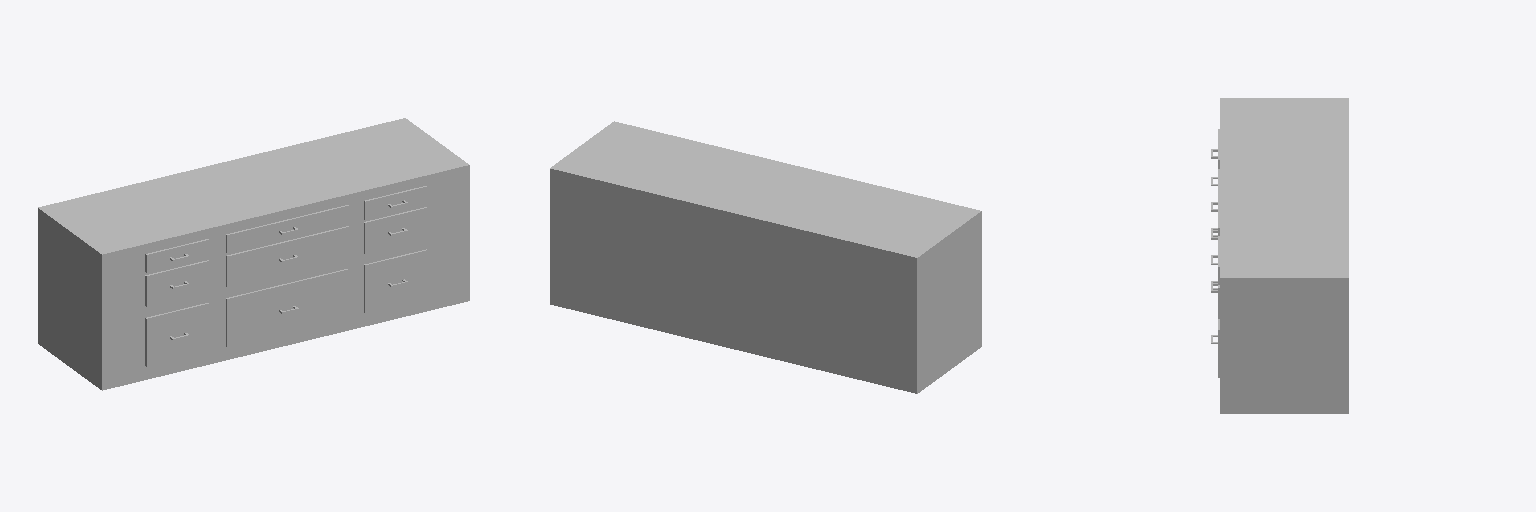
The model's file is kitchenTop.obj.
3 views of the same model, side by side, from view 1: azimuth 30°, elevation 25°; view 2: azimuth 150°, elevation 25°; view 3: azimuth 270°, elevation 25° (orthographic).
Visible parts, largest first — view 1: Kitchen_Base_grp Kitchen_Base_geo, Kitchen_Base_grp Bottom_Middle_Drawer_grp Bottom_Middle_Drawer_g, Kitchen_Base_grp Middle_Middle_Drawer_grp Middle_Middle_Drawer_g, Kitchen_Base_grp Bottom_Left_Drawer_grp Bottom_Left_Drawer_geo, Kitchen_Base_grp Bottom_Right_Drawer_grp Bottom_Right_Drawer_geo, Kitchen_Base_grp Top_Middle_Drawer_grp Top_Middle_Drawer_geo, Kitchen_Base_grp Middle_Left_Drawer_grp Middle_Left_Drawer_geo, Kitchen_Base_grp Middle_Right_Drawer_grp Middle_Right_Drawer_geo, Top_Right_Drawer_grp Kitchen_Base_grp Top_Right_Drawer_geo, Kitchen_Base_grp Top_Left_Drawer_geo Top_Left_Drawer_grp; view 2: Kitchen_Base_grp Kitchen_Base_geo; view 3: Kitchen_Base_grp Kitchen_Base_geo.
Part boxes in pixels (left/top/right/bottom): Kitchen_Base_grp Kitchen_Base_geo: left=38, top=118, right=469, bottom=390; Kitchen_Base_grp Bottom_Middle_Drawer_grp Bottom_Middle_Drawer_g: left=226, top=269, right=348, bottom=346; Kitchen_Base_grp Middle_Middle_Drawer_grp Middle_Middle_Drawer_g: left=226, top=226, right=348, bottom=286; Kitchen_Base_grp Bottom_Left_Drawer_grp Bottom_Left_Drawer_geo: left=145, top=303, right=208, bottom=366; Kitchen_Base_grp Bottom_Right_Drawer_grp Bottom_Right_Drawer_geo: left=364, top=249, right=427, bottom=312; Kitchen_Base_grp Top_Middle_Drawer_grp Top_Middle_Drawer_geo: left=226, top=205, right=348, bottom=252; Kitchen_Base_grp Middle_Left_Drawer_grp Middle_Left_Drawer_geo: left=145, top=260, right=208, bottom=306; Kitchen_Base_grp Middle_Right_Drawer_grp Middle_Right_Drawer_geo: left=364, top=207, right=427, bottom=253; Top_Right_Drawer_grp Kitchen_Base_grp Top_Right_Drawer_geo: left=364, top=186, right=427, bottom=219; Kitchen_Base_grp Top_Left_Drawer_geo Top_Left_Drawer_grp: left=145, top=239, right=208, bottom=272; Kitchen_Base_grp Kitchen_Base_geo: left=550, top=121, right=981, bottom=393; Kitchen_Base_grp Kitchen_Base_geo: left=1220, top=98, right=1348, bottom=413.
Bounding box in the file's own units: 298 × 105 × 96.83.